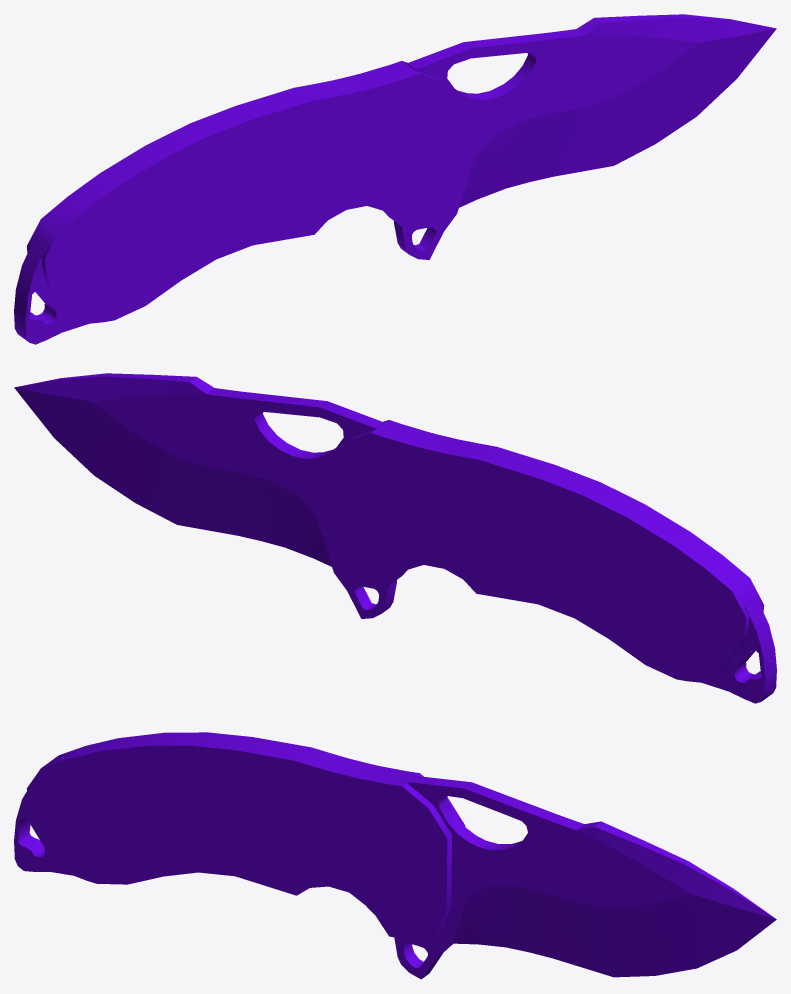
Rendered from KIKUXR.fbx.
The picture shows the model from 3 angles, top to bottom: view 1: azimuth 30°, elevation 25°; view 2: azimuth 150°, elevation 25°; view 3: azimuth 330°, elevation 25°; orthographic projection.
Parts seen in each view (by area): view 1: Plane, blade, Plane.001; view 2: Plane, blade, Plane.001; view 3: Plane, blade, Plane.001.
Boxes of the visible parts, left/top/right/bottom form: Plane: left=26, top=61, right=465, bottom=323; blade: left=394, top=14, right=776, bottom=259; Plane.001: left=14, top=239, right=88, bottom=344; Plane: left=325, top=420, right=764, bottom=682; blade: left=14, top=373, right=396, bottom=618; Plane.001: left=702, top=598, right=776, bottom=703; Plane: left=26, top=732, right=465, bottom=943; blade: left=394, top=776, right=776, bottom=979; Plane.001: left=14, top=791, right=72, bottom=875.
Bounding box in the file's own units: 18.61 × 4.73 × 0.7631.
